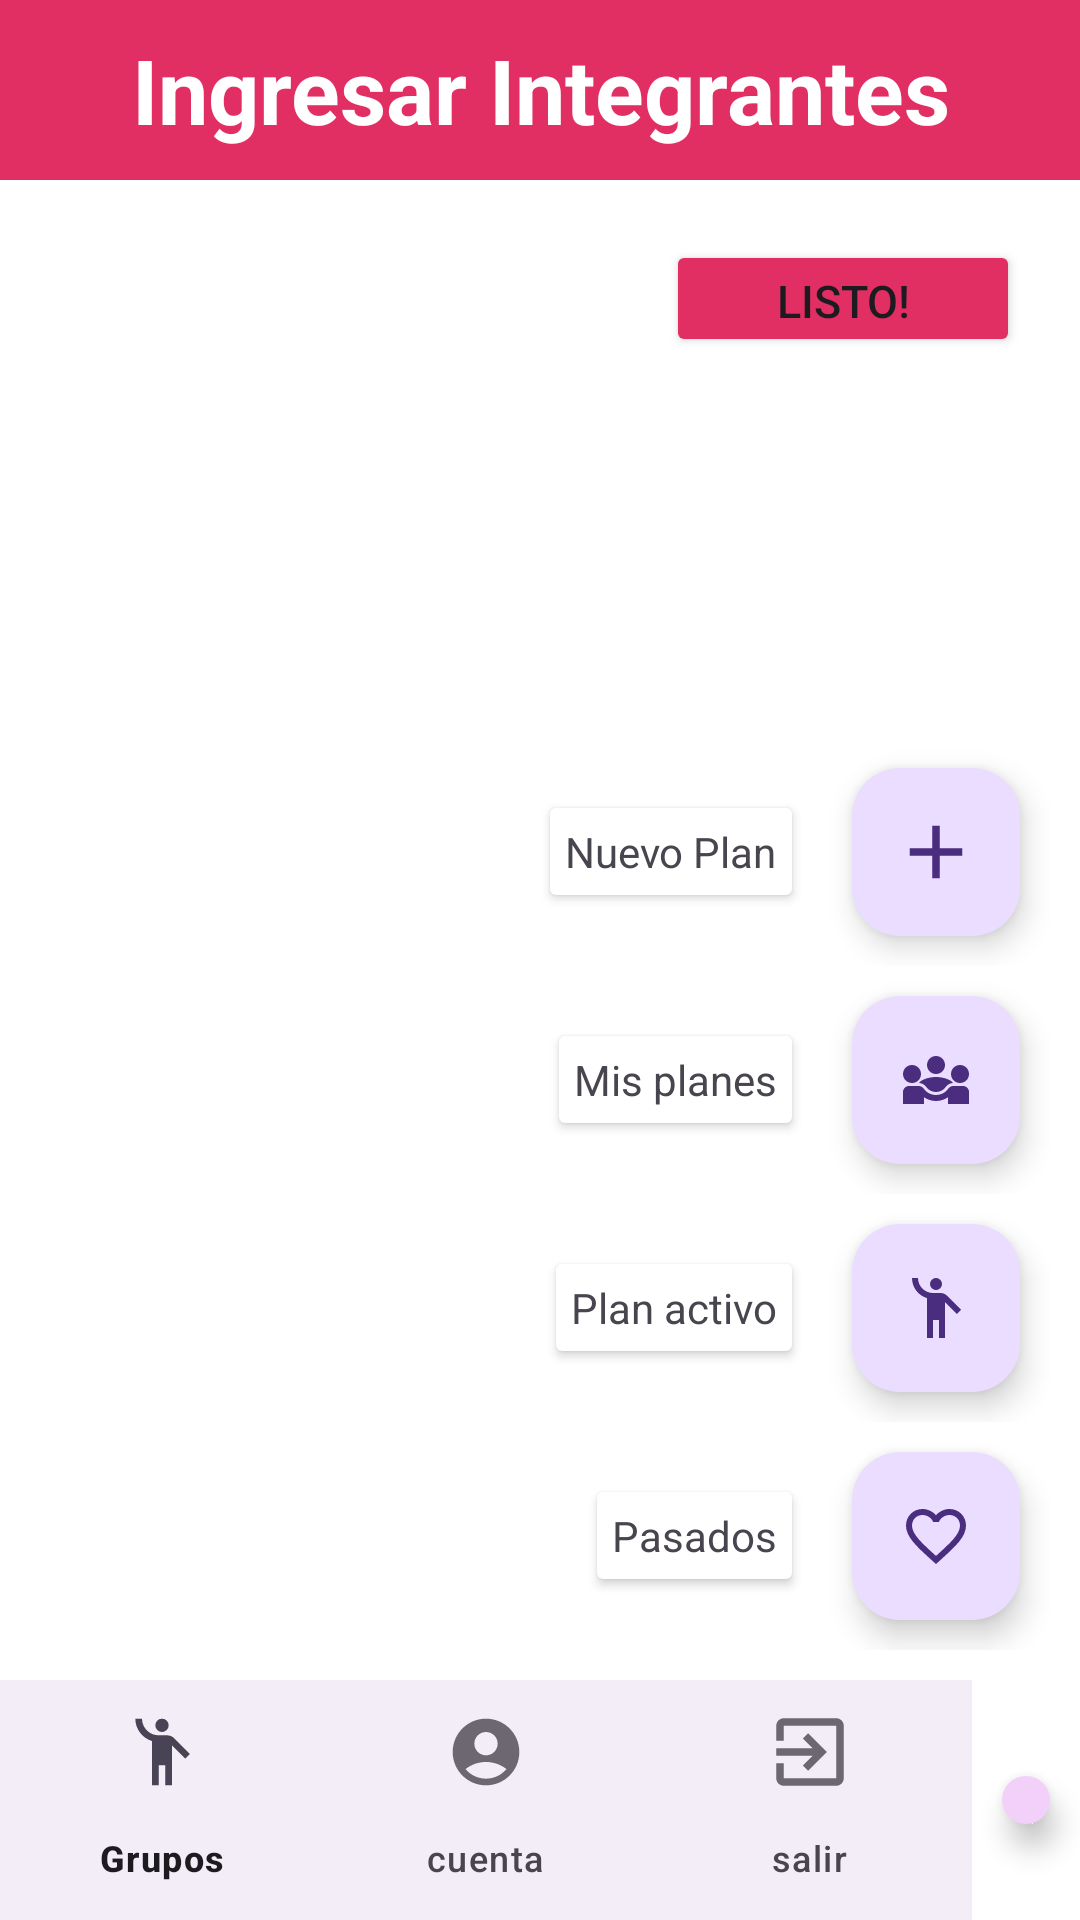

Icons on this 1080px x 1920px Android screen, each with the point to tap as (x,y):
mas: (936,852)
